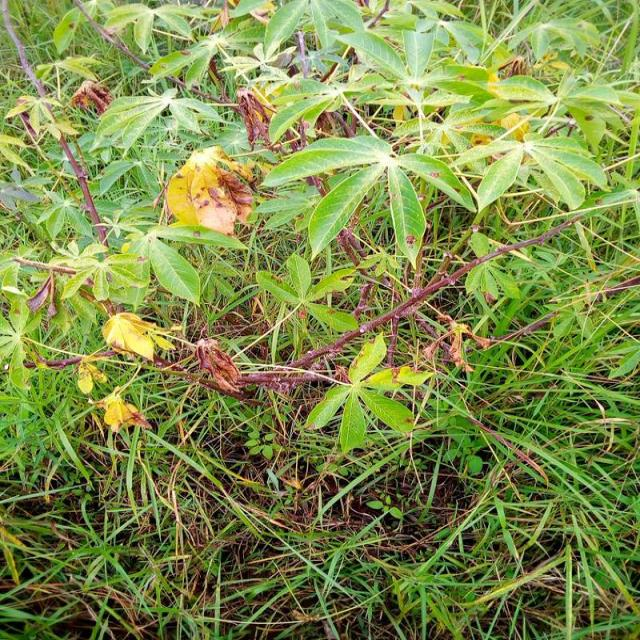cassava leaf: (165, 143, 254, 238)
